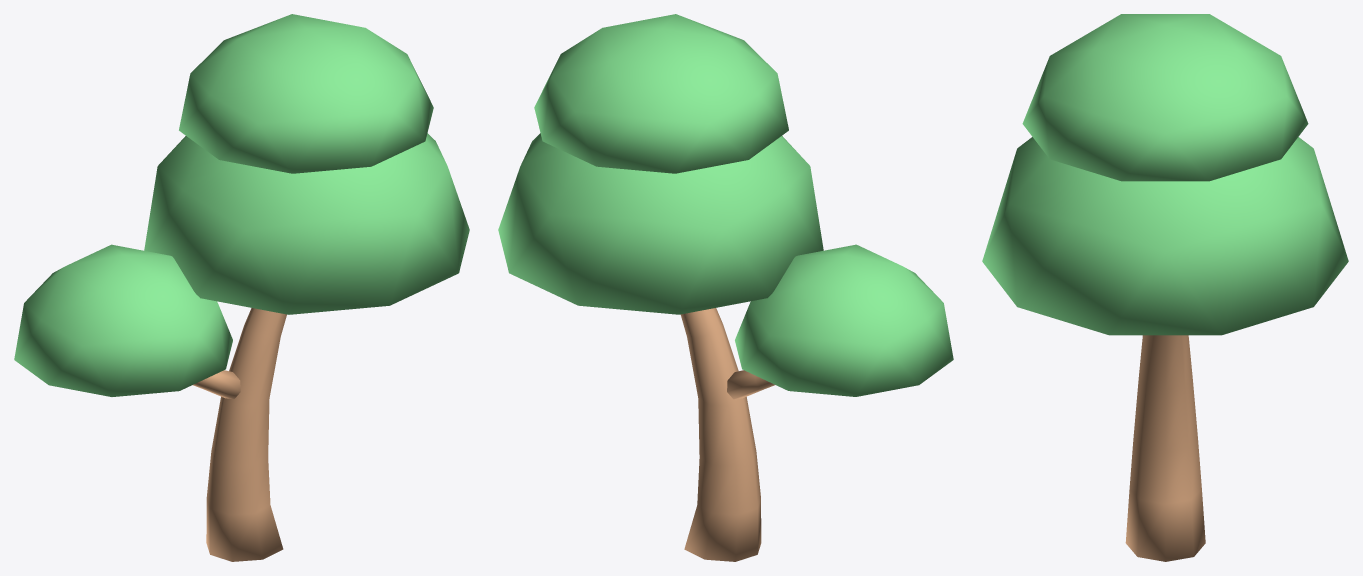
File: Pohon_4.fbx
3 renders of one model, left to right at view 1: azimuth 30°, elevation 25°; view 2: azimuth 150°, elevation 25°; view 3: azimuth 270°, elevation 25°, orthographic. The views are drawn at different scales.
Visible parts, largest first — view 1: Icosphere; view 2: Icosphere; view 3: Icosphere.
Boxes of the visible parts, left/top/right/bottom form: Icosphere: left=14, top=14, right=469, bottom=561; Icosphere: left=498, top=14, right=953, bottom=561; Icosphere: left=982, top=14, right=1348, bottom=561.
Size of the model in its own units: 954 by 1111 by 670.
